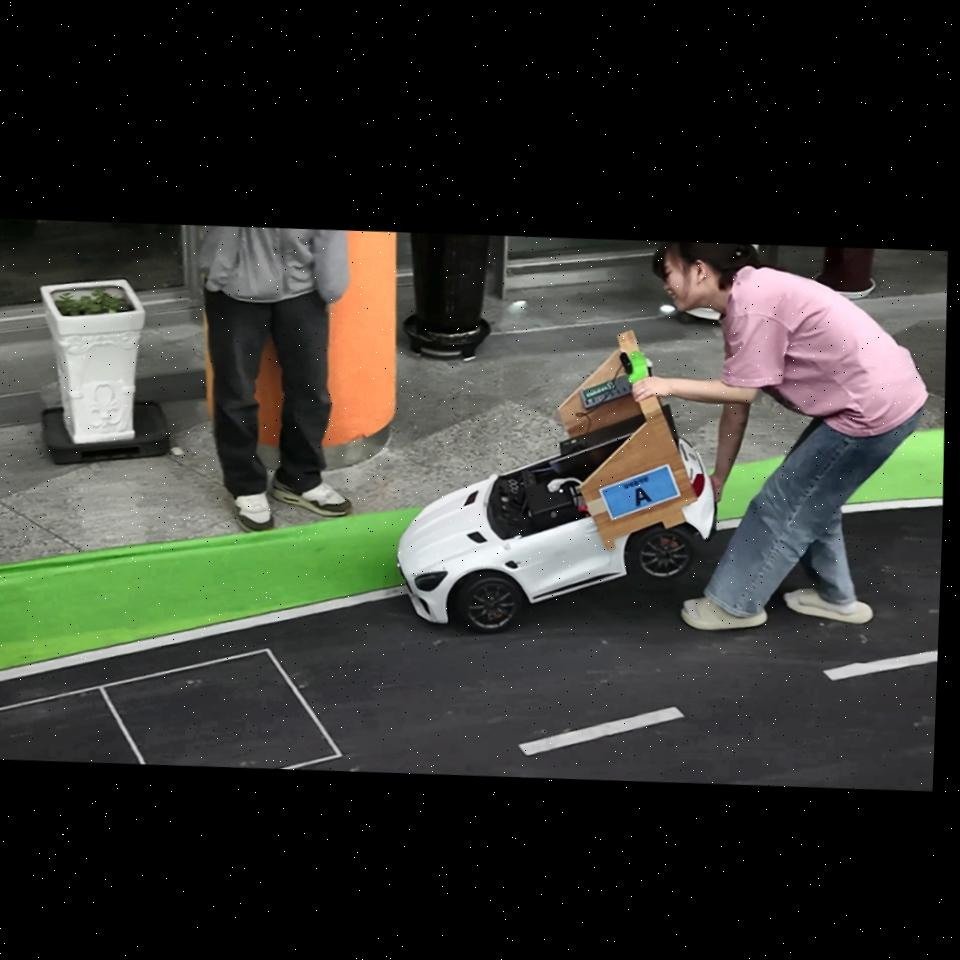broken_line: (517, 706, 685, 756), (823, 650, 938, 681)
